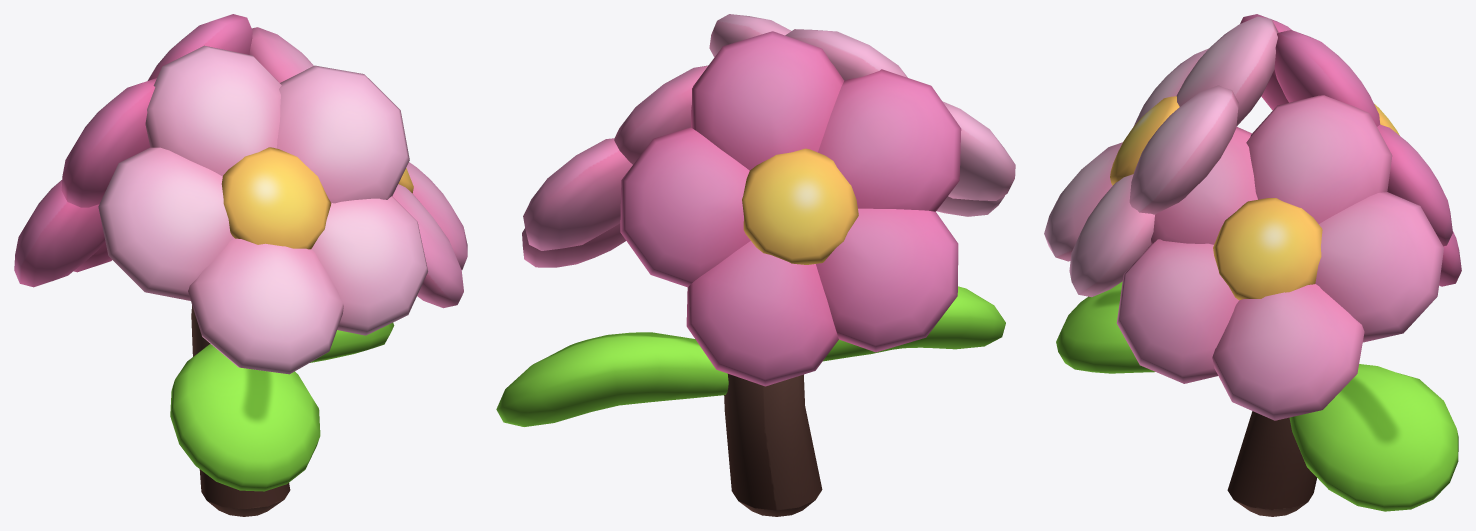
Rendered from pinkflower.fbx.
3 renders of one model, left to right at view 1: azimuth 30°, elevation 25°; view 2: azimuth 150°, elevation 25°; view 3: azimuth 270°, elevation 25°, orthographic. The views are drawn at different scales.
Parts seen in each view (by area): view 1: PinkFlower01; view 2: PinkFlower01; view 3: PinkFlower01.
Part boxes in pixels (<box>): PinkFlower01: <box>14,14,467,516</box>; PinkFlower01: <box>496,14,1015,516</box>; PinkFlower01: <box>1044,14,1461,516</box>.
Bounding box in the file's own units: 143 × 152 × 124.
